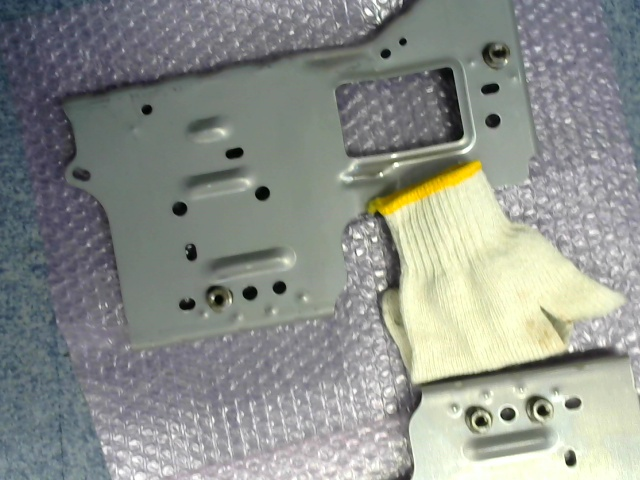dog: (482, 40, 511, 71), (464, 405, 493, 435), (206, 283, 233, 314), (527, 395, 554, 425)
